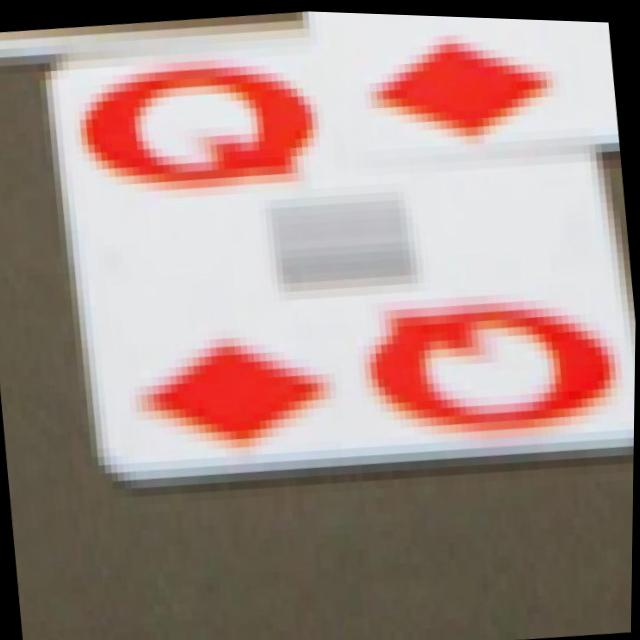Card-Q: (49, 30, 636, 476)
